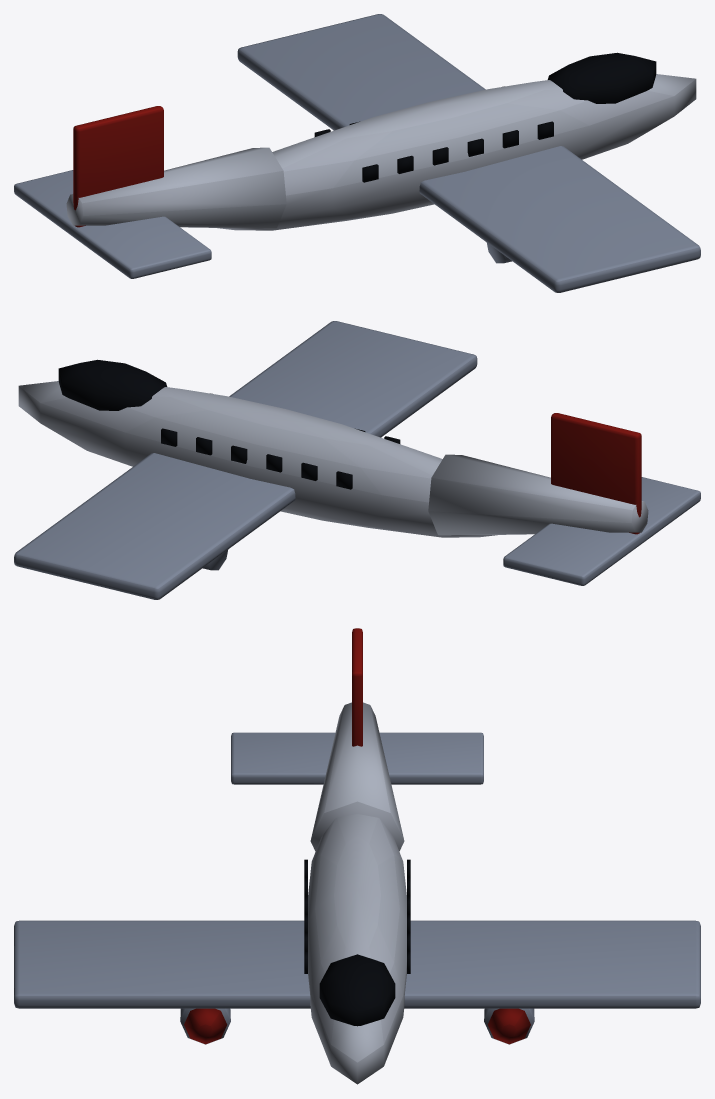
File: airplane.glb
3 views of the same model, one above another, from view 1: azimuth 30°, elevation 25°; view 2: azimuth 150°, elevation 25°; view 3: azimuth 270°, elevation 25° (orthographic). The views are drawn at different scales.
Parts seen in each view (by area): view 1: airplane; view 2: airplane; view 3: airplane.
Boxes of the visible parts, <box> form: airplane: <box>14,14,700,292</box>; airplane: <box>14,321,700,599</box>; airplane: <box>14,628,700,1084</box>.
Size of the model in its own units: 2.14 by 0.56 by 1.9.
